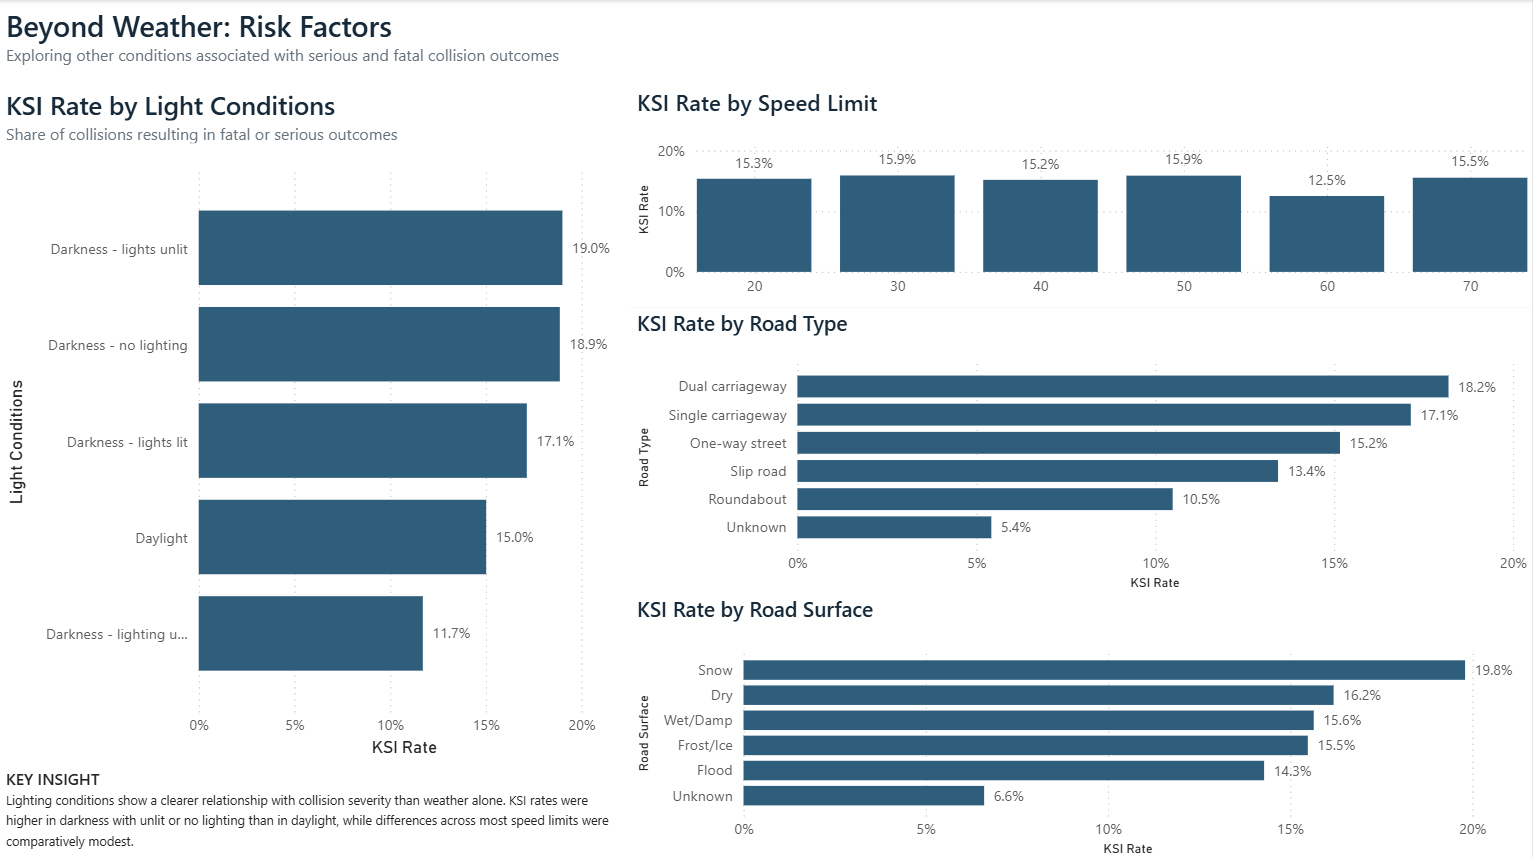

What the dashboard file says about the page in this screenshot:
{"tool":"powerbi","page":{"name":"Beyond Weather: Risk Factors","canvas":[1280,720],"ordinal":2},"visuals":[{"type":"clusteredColumnChart","title":"KSI Rate by Speed Limit","fields":{"Category":["Data.speed_limit"],"Y":["KPI Measures.KSI Rate"]},"box":[526.7,72.7,753.7,184.4],"z":0},{"type":"clusteredBarChart","fields":{"Category":["Data.Road Type"],"Y":["KPI Measures.KSI Rate"]},"box":[526.7,257.1,753.7,240.3],"z":1000},{"type":"clusteredBarChart","title":"KSI Rate by Light Conditions","fields":{"Category":["Data.Light Conditions"],"Y":["KPI Measures.KSI Rate"]},"box":[0,72.7,526.7,563.9],"z":2000},{"type":"clusteredBarChart","fields":{"Category":["Data.Road Surface"],"Y":["KPI Measures.KSI Rate"]},"box":[526.7,496.6,753.7,223.4],"z":3000},{"type":"textbox","box":[0,0,1280.4,72.7],"z":3001},{"type":"textbox","box":[0,636.7,526.7,83.3],"z":3002}]}

Visuals, with their boxes in screenshot pixels (x1, y1, x2, y2), scaled from the page's 1280x720 canvas onto the 1533x859 screenshot:
"KSI Rate by Speed Limit" clusteredColumnChart: <region>631, 87, 1532, 307</region>
clusteredBarChart - Data.Road Type x KPI Measures.KSI Rate: <region>631, 307, 1532, 593</region>
"KSI Rate by Light Conditions" clusteredBarChart: <region>0, 87, 631, 759</region>
clusteredBarChart - Data.Road Surface x KPI Measures.KSI Rate: <region>631, 592, 1532, 858</region>
textbox: <region>0, 0, 1532, 87</region>
textbox: <region>0, 760, 631, 858</region>
